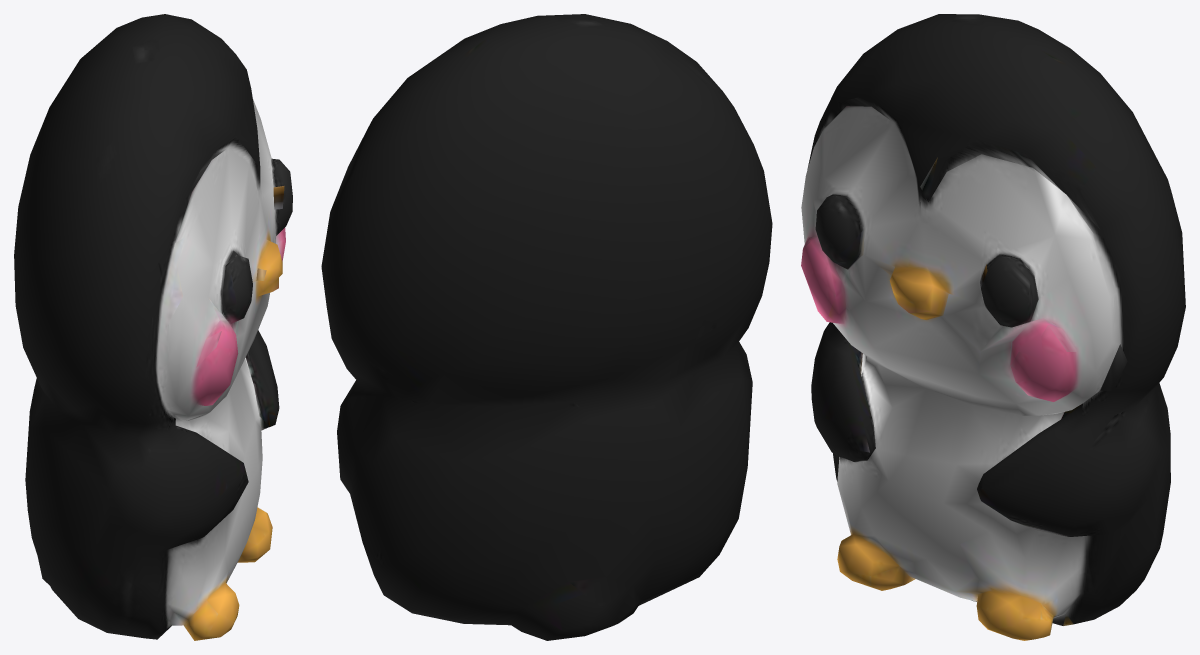
File: toy-penguin.glb
3 renders of one model, left to right at view 1: azimuth 30°, elevation 25°; view 2: azimuth 150°, elevation 25°; view 3: azimuth 270°, elevation 25°, orthographic. The views are drawn at different scales.
Visible parts, largest first — view 1: Penguin Toy -3DPrint; view 2: Penguin Toy -3DPrint; view 3: Penguin Toy -3DPrint.
Boxes of the visible parts, x1,y1,x2,y2 form: Penguin Toy -3DPrint: [14, 14, 292, 640]; Penguin Toy -3DPrint: [321, 14, 772, 640]; Penguin Toy -3DPrint: [801, 14, 1185, 640].
Bounding box in the file's own units: 0.3043 × 0.5146 × 0.3206.
1 material, 1 textured.
